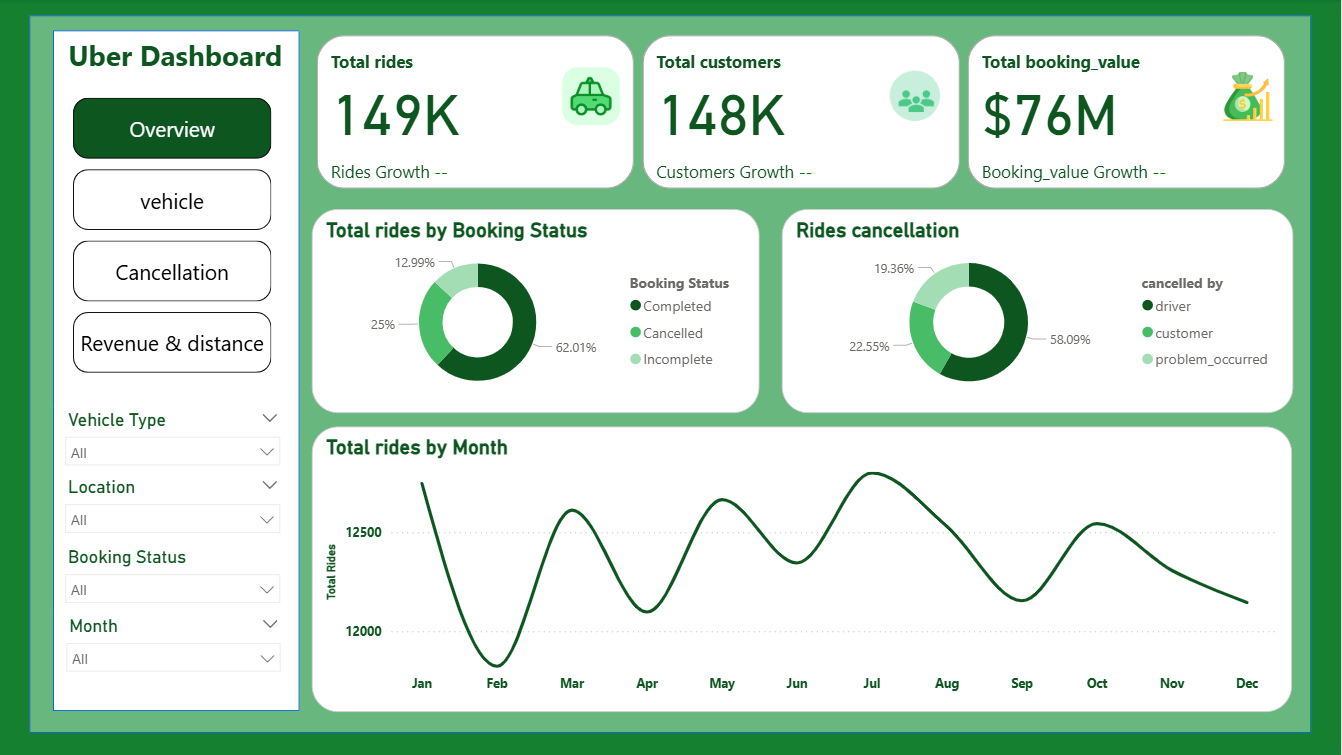

The dashboard page shown, as its layout file describes it:
{"tool":"powerbi","page":{"name":"Overview","canvas":[1280,720],"ordinal":0},"visuals":[{"type":"shape","box":[29.5,15.5,1220.9,683.6],"z":0},{"type":"shape","box":[52,29.5,234.9,648.4],"z":1000},{"type":"textbox","title":"layout","box":[61.9,29.5,216.6,67.5],"z":2000},{"type":"pageNavigator","box":[71.6,94.5,189,262.1],"z":3000},{"type":"slicer","fields":{"Values":["Dim_vehicle_type.Vehicle Type"]},"box":[53.5,385.4,225.1,64.7],"z":4000},{"type":"slicer","fields":{"Values":["Dim_locations.Drop Location"]},"box":[53.5,450.1,225.1,66.1],"z":5000},{"type":"slicer","fields":{"Values":["Dim_date.Date.Variation.Date Hierarchy.Month"]},"box":[54.6,582.4,224.5,80.1],"z":6000},{"type":"slicer","fields":{"Values":["data.Booking Status"]},"box":[53.5,516.2,225.1,66.1],"z":7000},{"type":"cardVisual","fields":{"Data":["Measuress.Total rides","Measuress.Total customers","Measuress.Total booking_value"]},"box":[299.3,30.1,933.7,156.1],"z":8000},{"type":"donutChart","fields":{"Category":["data.Booking Status"],"Y":["Measuress.Total rides"]},"box":[299.3,200.5,426.8,194.8],"z":9000},{"type":"lineChart","fields":{"Y":["Measuress.Total rides"],"Category":["Dim_date.Month"]},"box":[299.3,406.7,933.7,272.1],"z":10000},{"type":"donutChart","title":"Rides cancellation","fields":{"Category":["Dim_cancellation.cancelled because/by"],"Y":["Measuress.Total rides"]},"box":[746.1,200.5,486.9,194.8],"z":11000}]}

Visuals, with their boxes in screenshot pixels (x1, y1, x2, y2), scaled from the page's 1280x720 canvas onto the 1342x755 screenshot:
shape: bbox(31, 16, 1311, 733)
shape: bbox(55, 31, 301, 711)
"layout" textbox: bbox(65, 31, 292, 102)
pageNavigator: bbox(75, 99, 273, 374)
slicer - Dim_vehicle_type.Vehicle Type: bbox(56, 404, 292, 472)
slicer - Dim_locations.Drop Location: bbox(56, 472, 292, 541)
slicer - Dim_date.Date.Variation.Date Hierarchy.Month: bbox(57, 611, 293, 695)
slicer - data.Booking Status: bbox(56, 541, 292, 611)
cardVisual - Measuress.Total rides x Measuress.Total customers: bbox(314, 32, 1293, 195)
donutChart - data.Booking Status x Measuress.Total rides: bbox(314, 210, 761, 415)
lineChart - Measuress.Total rides x Dim_date.Month: bbox(314, 426, 1293, 712)
"Rides cancellation" donutChart: bbox(782, 210, 1293, 415)
